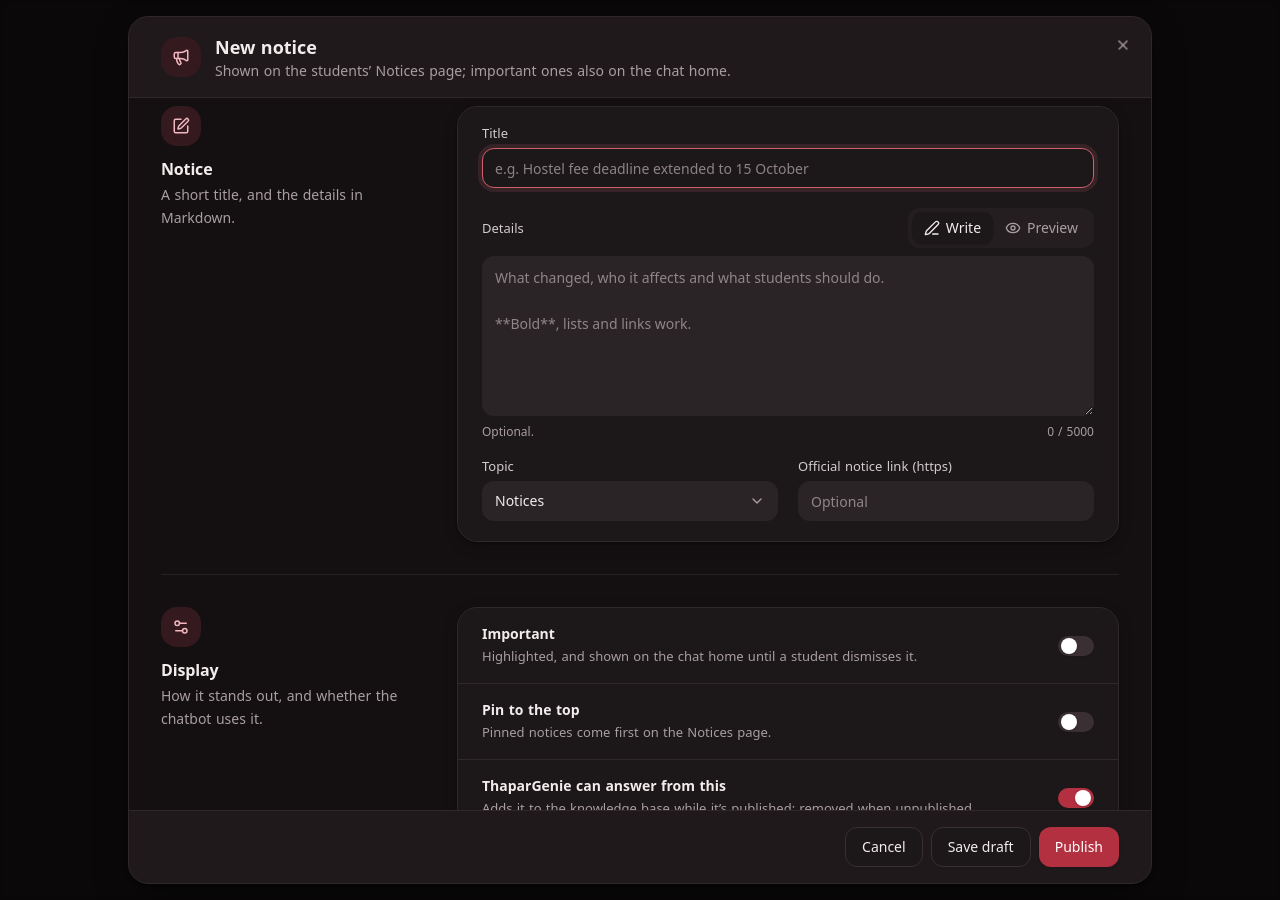
Scenario: NoticeDialog › asks for a title before saving
Click the button "Publish" at (1079,847), box top-left (1039, 827), bottom-right (1119, 867)
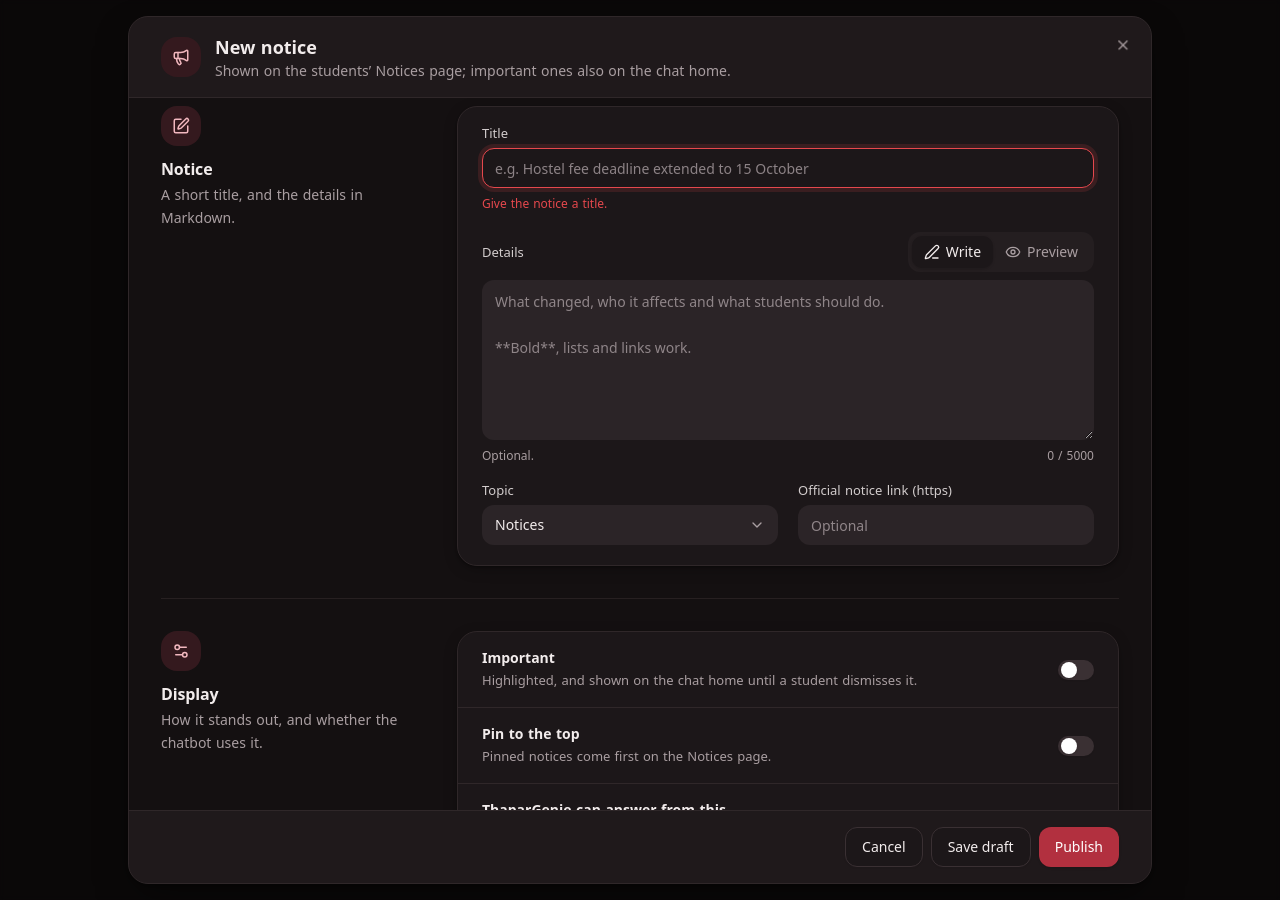
Expected: the text "Give the notice a title." is shown, top-left (482, 195), bottom-right (607, 212)
